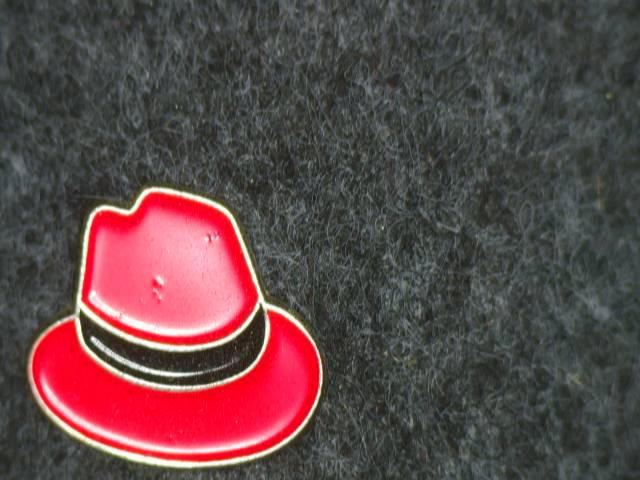Red-Hat: (5, 173, 378, 475)
